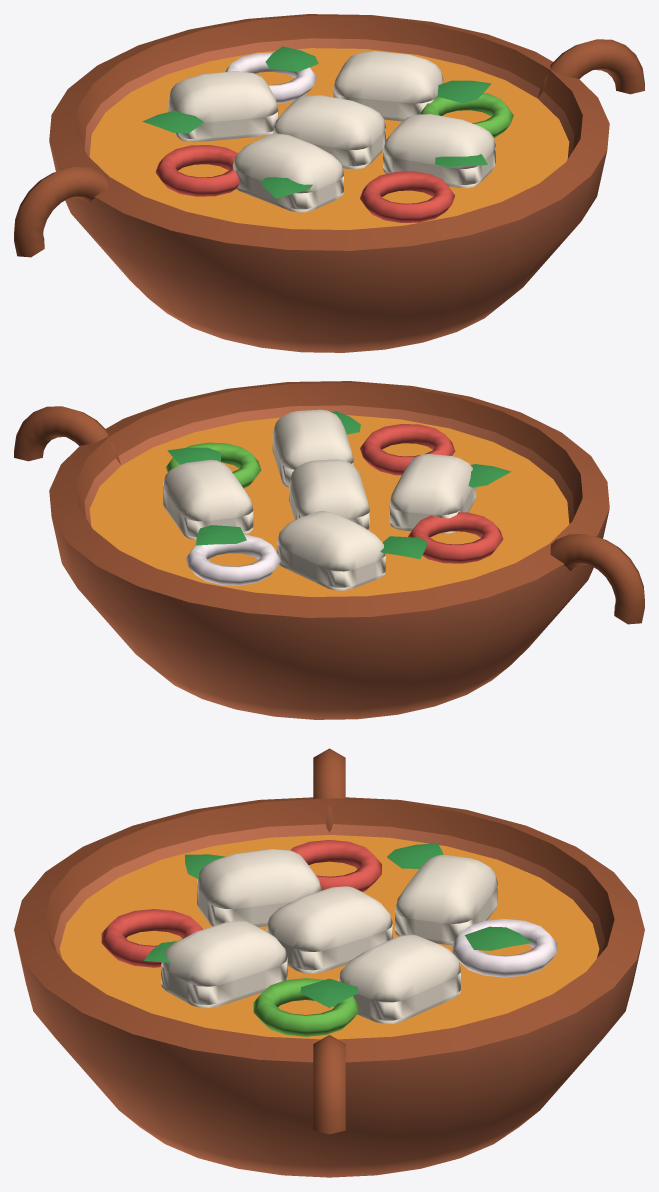
The model's file is moqueca.glb.
The picture shows the model from 3 angles, top to bottom: view 1: azimuth 30°, elevation 25°; view 2: azimuth 150°, elevation 25°; view 3: azimuth 270°, elevation 25°; orthographic projection. The views are drawn at different scales.
Parts seen in each view (by area): view 1: moqueca; view 2: moqueca; view 3: moqueca.
Part boxes in pixels (x1=…): moqueca: x1=14, y1=14, x2=644, y2=352; moqueca: x1=14, y1=381, x2=644, y2=719; moqueca: x1=14, y1=748, x2=644, y2=1177.
Size of the model in its own units: 0.3499 by 0.0904 by 0.27.
